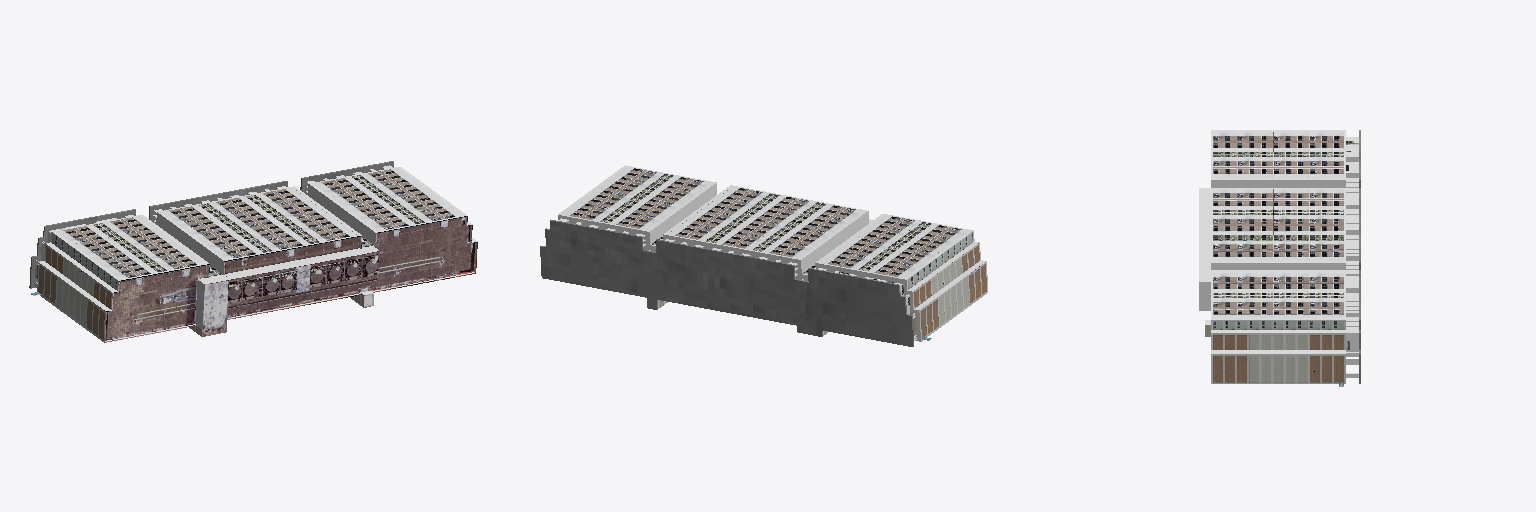
3 views of the same model, side by side, from view 1: azimuth 30°, elevation 25°; view 2: azimuth 150°, elevation 25°; view 3: azimuth 270°, elevation 25° (orthographic).
Parts seen in each view (by area): view 1: polygon.833; view 2: polygon.833; view 3: polygon.833.
Boxes of the visible parts, box(x1,y1,x2,y2) form: polygon.833: box(29, 161, 477, 342); polygon.833: box(540, 165, 987, 346); polygon.833: box(1199, 130, 1360, 386).
Size of the model in its own units: 105 by 22 by 38.36.
1 materials, 1 textured.